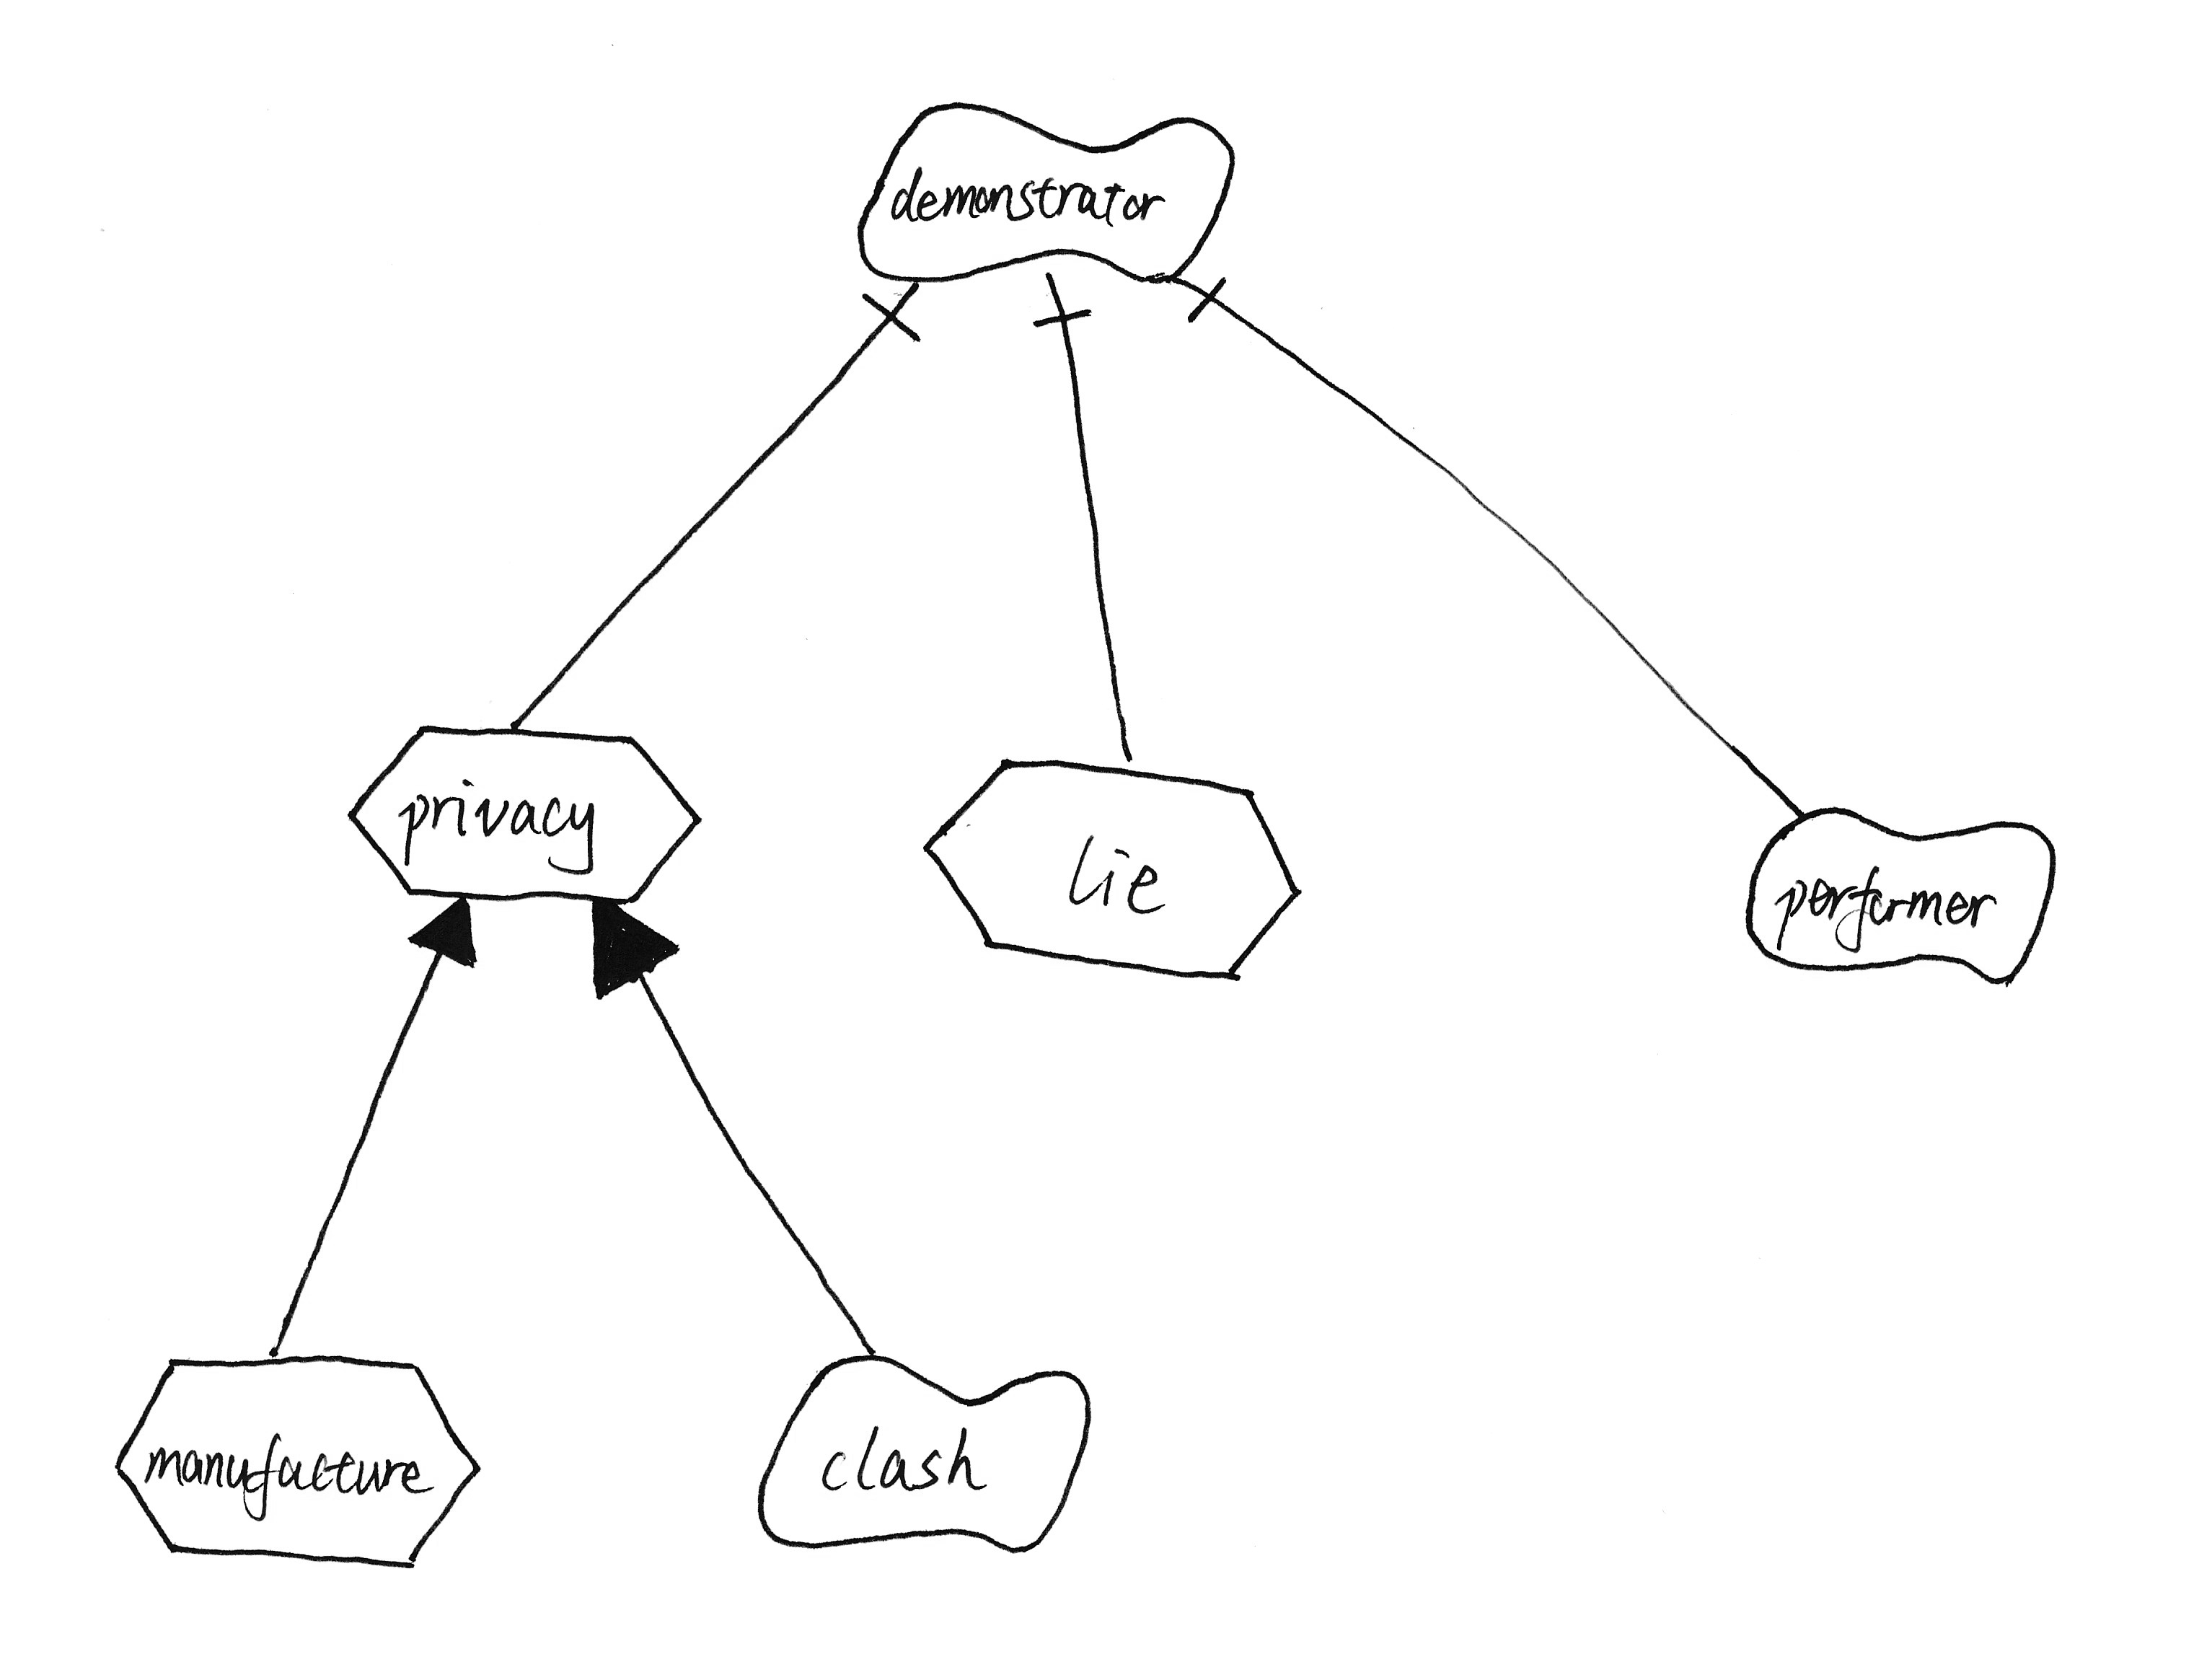and: (843, 278, 945, 361), (1016, 278, 1117, 349), (1175, 269, 1247, 346)
or: (566, 887, 690, 1014), (391, 889, 492, 990)
quality: (738, 1339, 1123, 1566), (848, 84, 1245, 292), (1728, 798, 2095, 1007)
task: (908, 740, 1322, 993), (100, 1339, 494, 1582), (328, 704, 714, 917)
